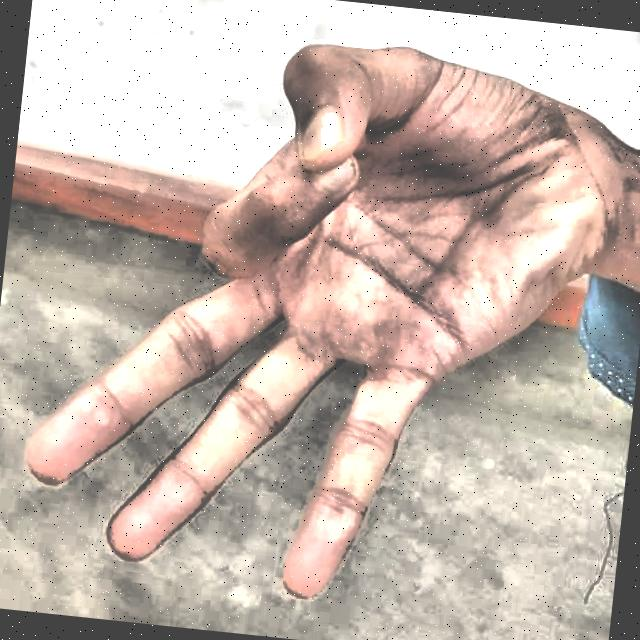Fa: (6, 0, 626, 640)
